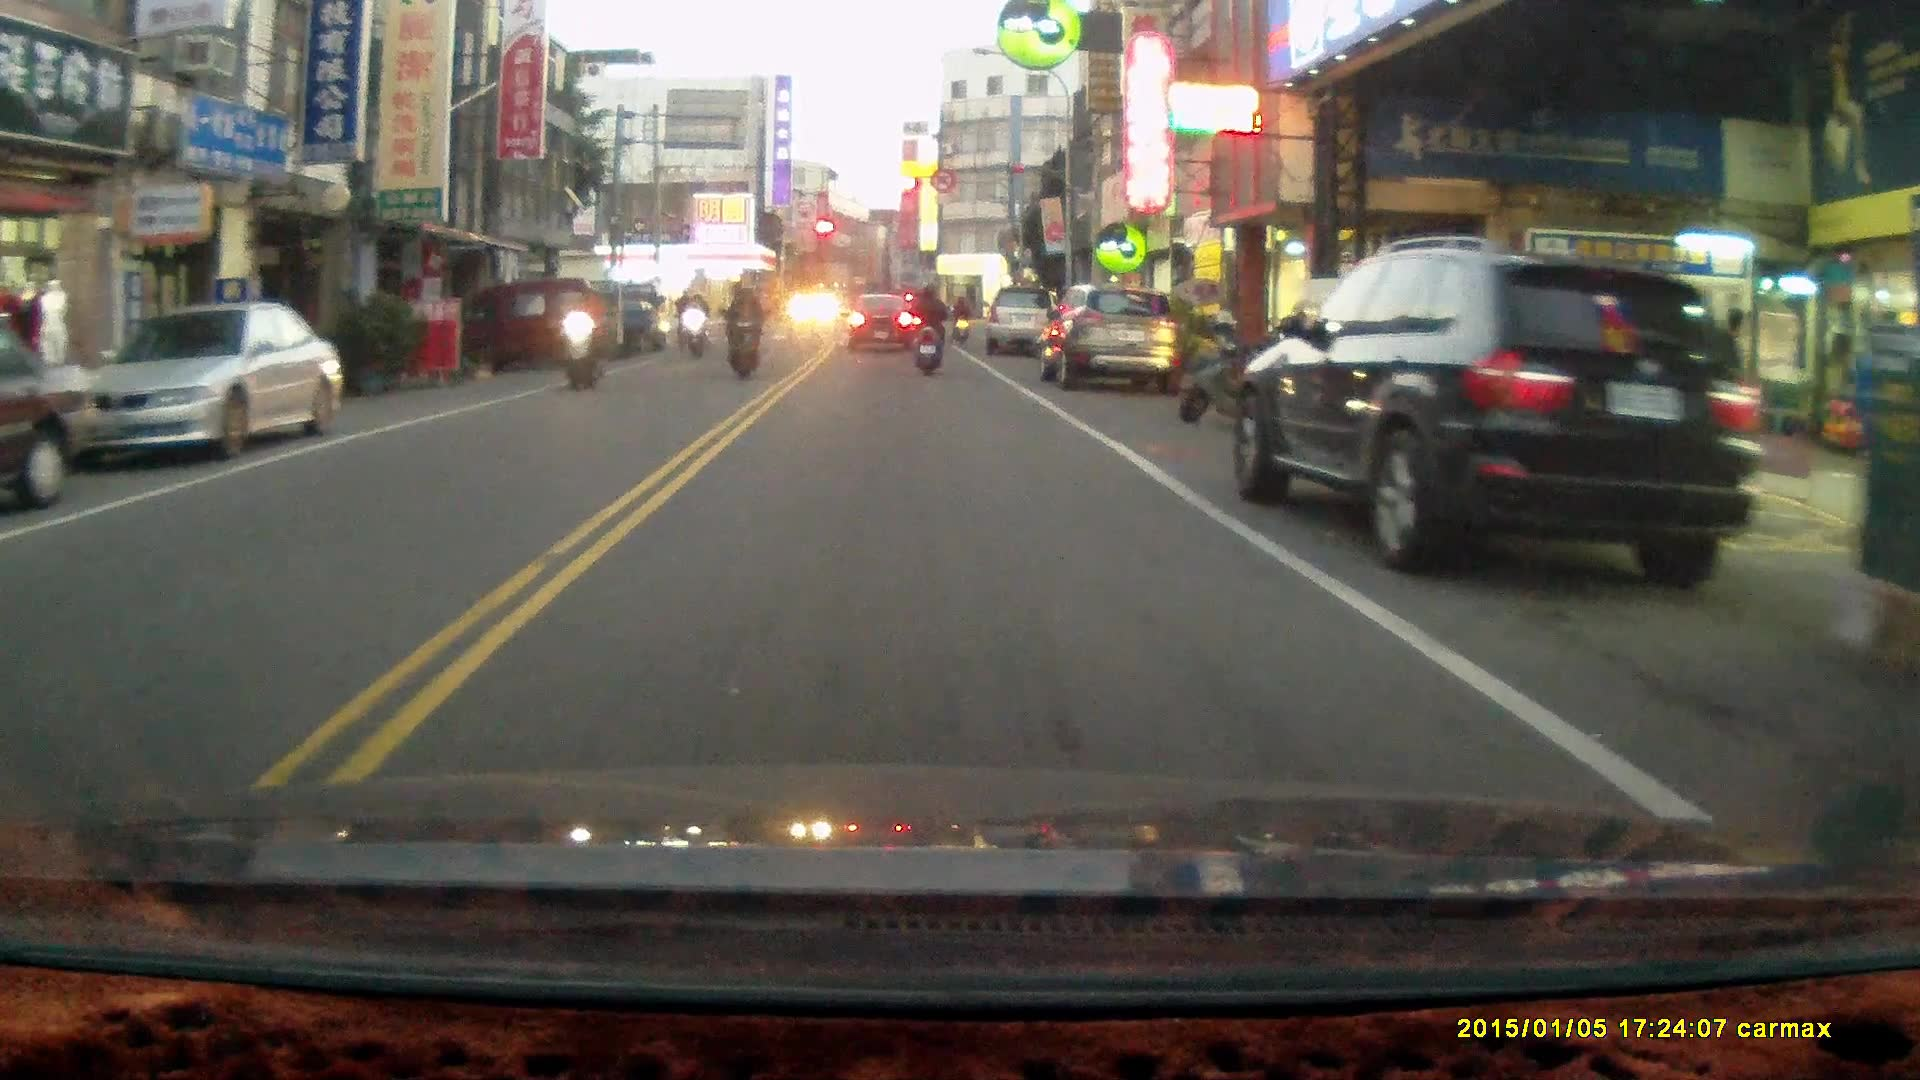rider: (560, 280, 605, 391), (719, 283, 761, 383), (909, 279, 948, 378), (681, 291, 708, 361), (949, 293, 970, 345)
vehicle: (1232, 241, 1755, 590), (53, 300, 349, 465), (2, 314, 100, 520), (1038, 285, 1179, 395), (493, 278, 614, 371), (986, 289, 1067, 363)
